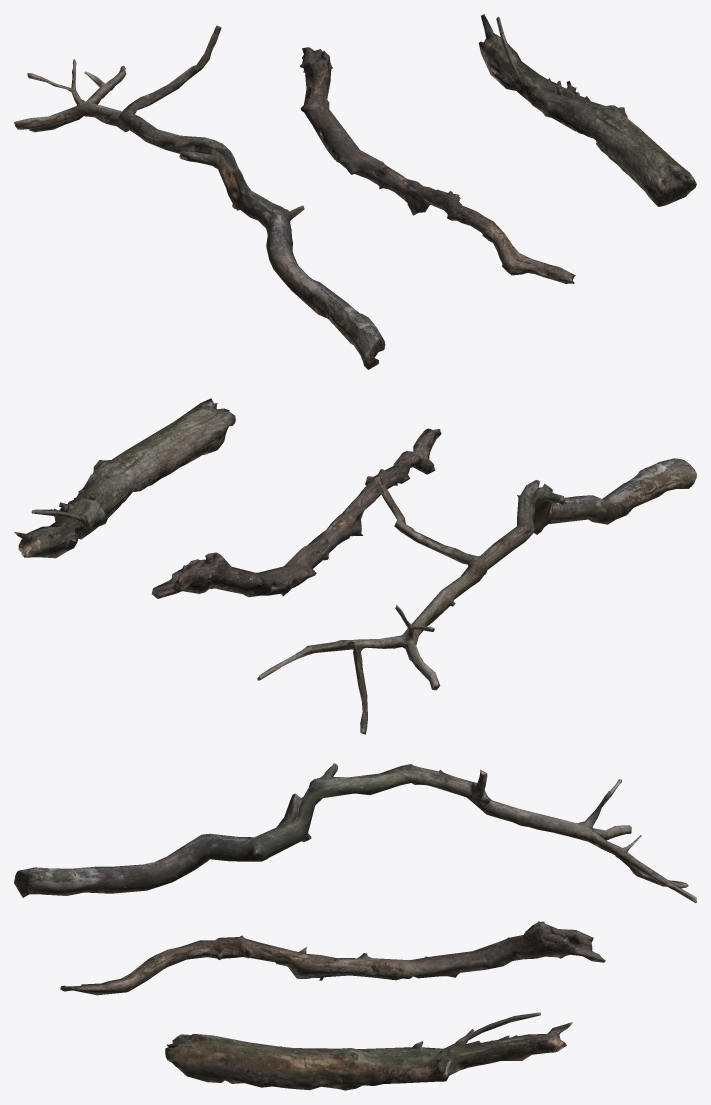
The model's file is ph-dry_branches_medium_01.glb.
3 renders of one model, top to bottom at view 1: azimuth 30°, elevation 25°; view 2: azimuth 150°, elevation 25°; view 3: azimuth 270°, elevation 25°, orthographic. The views are drawn at different scales.
Visible parts, largest first — view 1: dry_branches_medium_01_c; view 2: dry_branches_medium_01_c; view 3: dry_branches_medium_01_c.
Part boxes in pixels (box(x1,y1,x2,y2)): dry_branches_medium_01_c: box(14, 14, 696, 369); dry_branches_medium_01_c: box(14, 398, 696, 734); dry_branches_medium_01_c: box(14, 763, 696, 1090).
Bounding box in the file's own units: 1.06 × 0.3401 × 1.3.
1 material, 1 textured.
